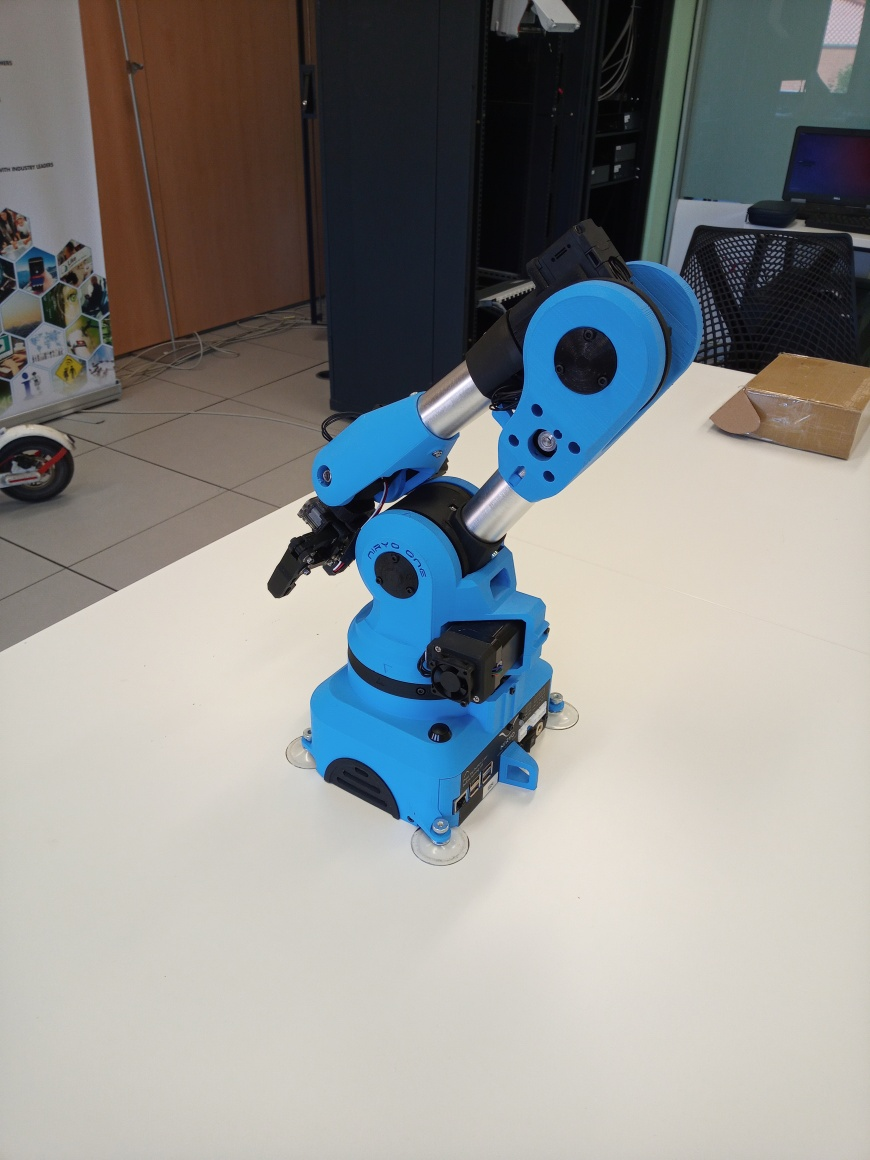robot: (266, 218, 706, 870)
